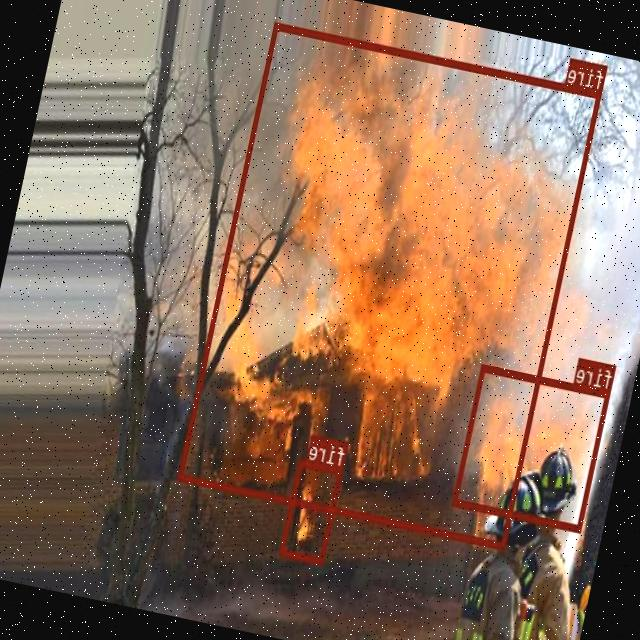fire: (178, 21, 602, 548), (454, 362, 612, 532), (280, 457, 344, 564)
